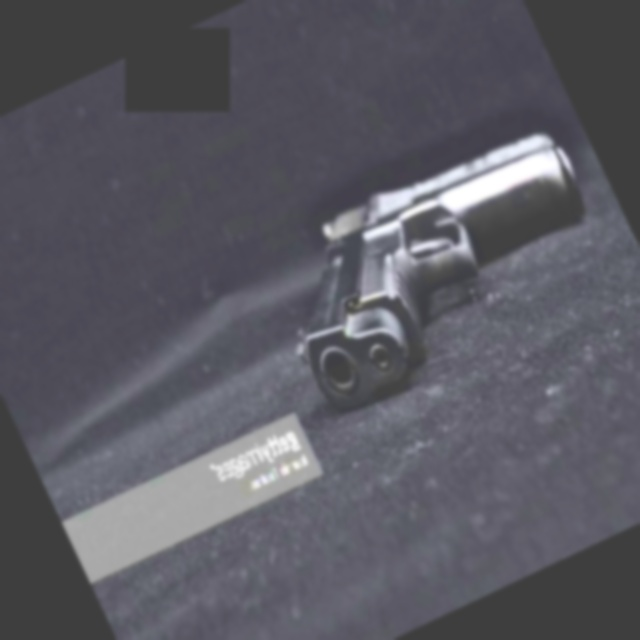gun: (251, 106, 631, 414)
